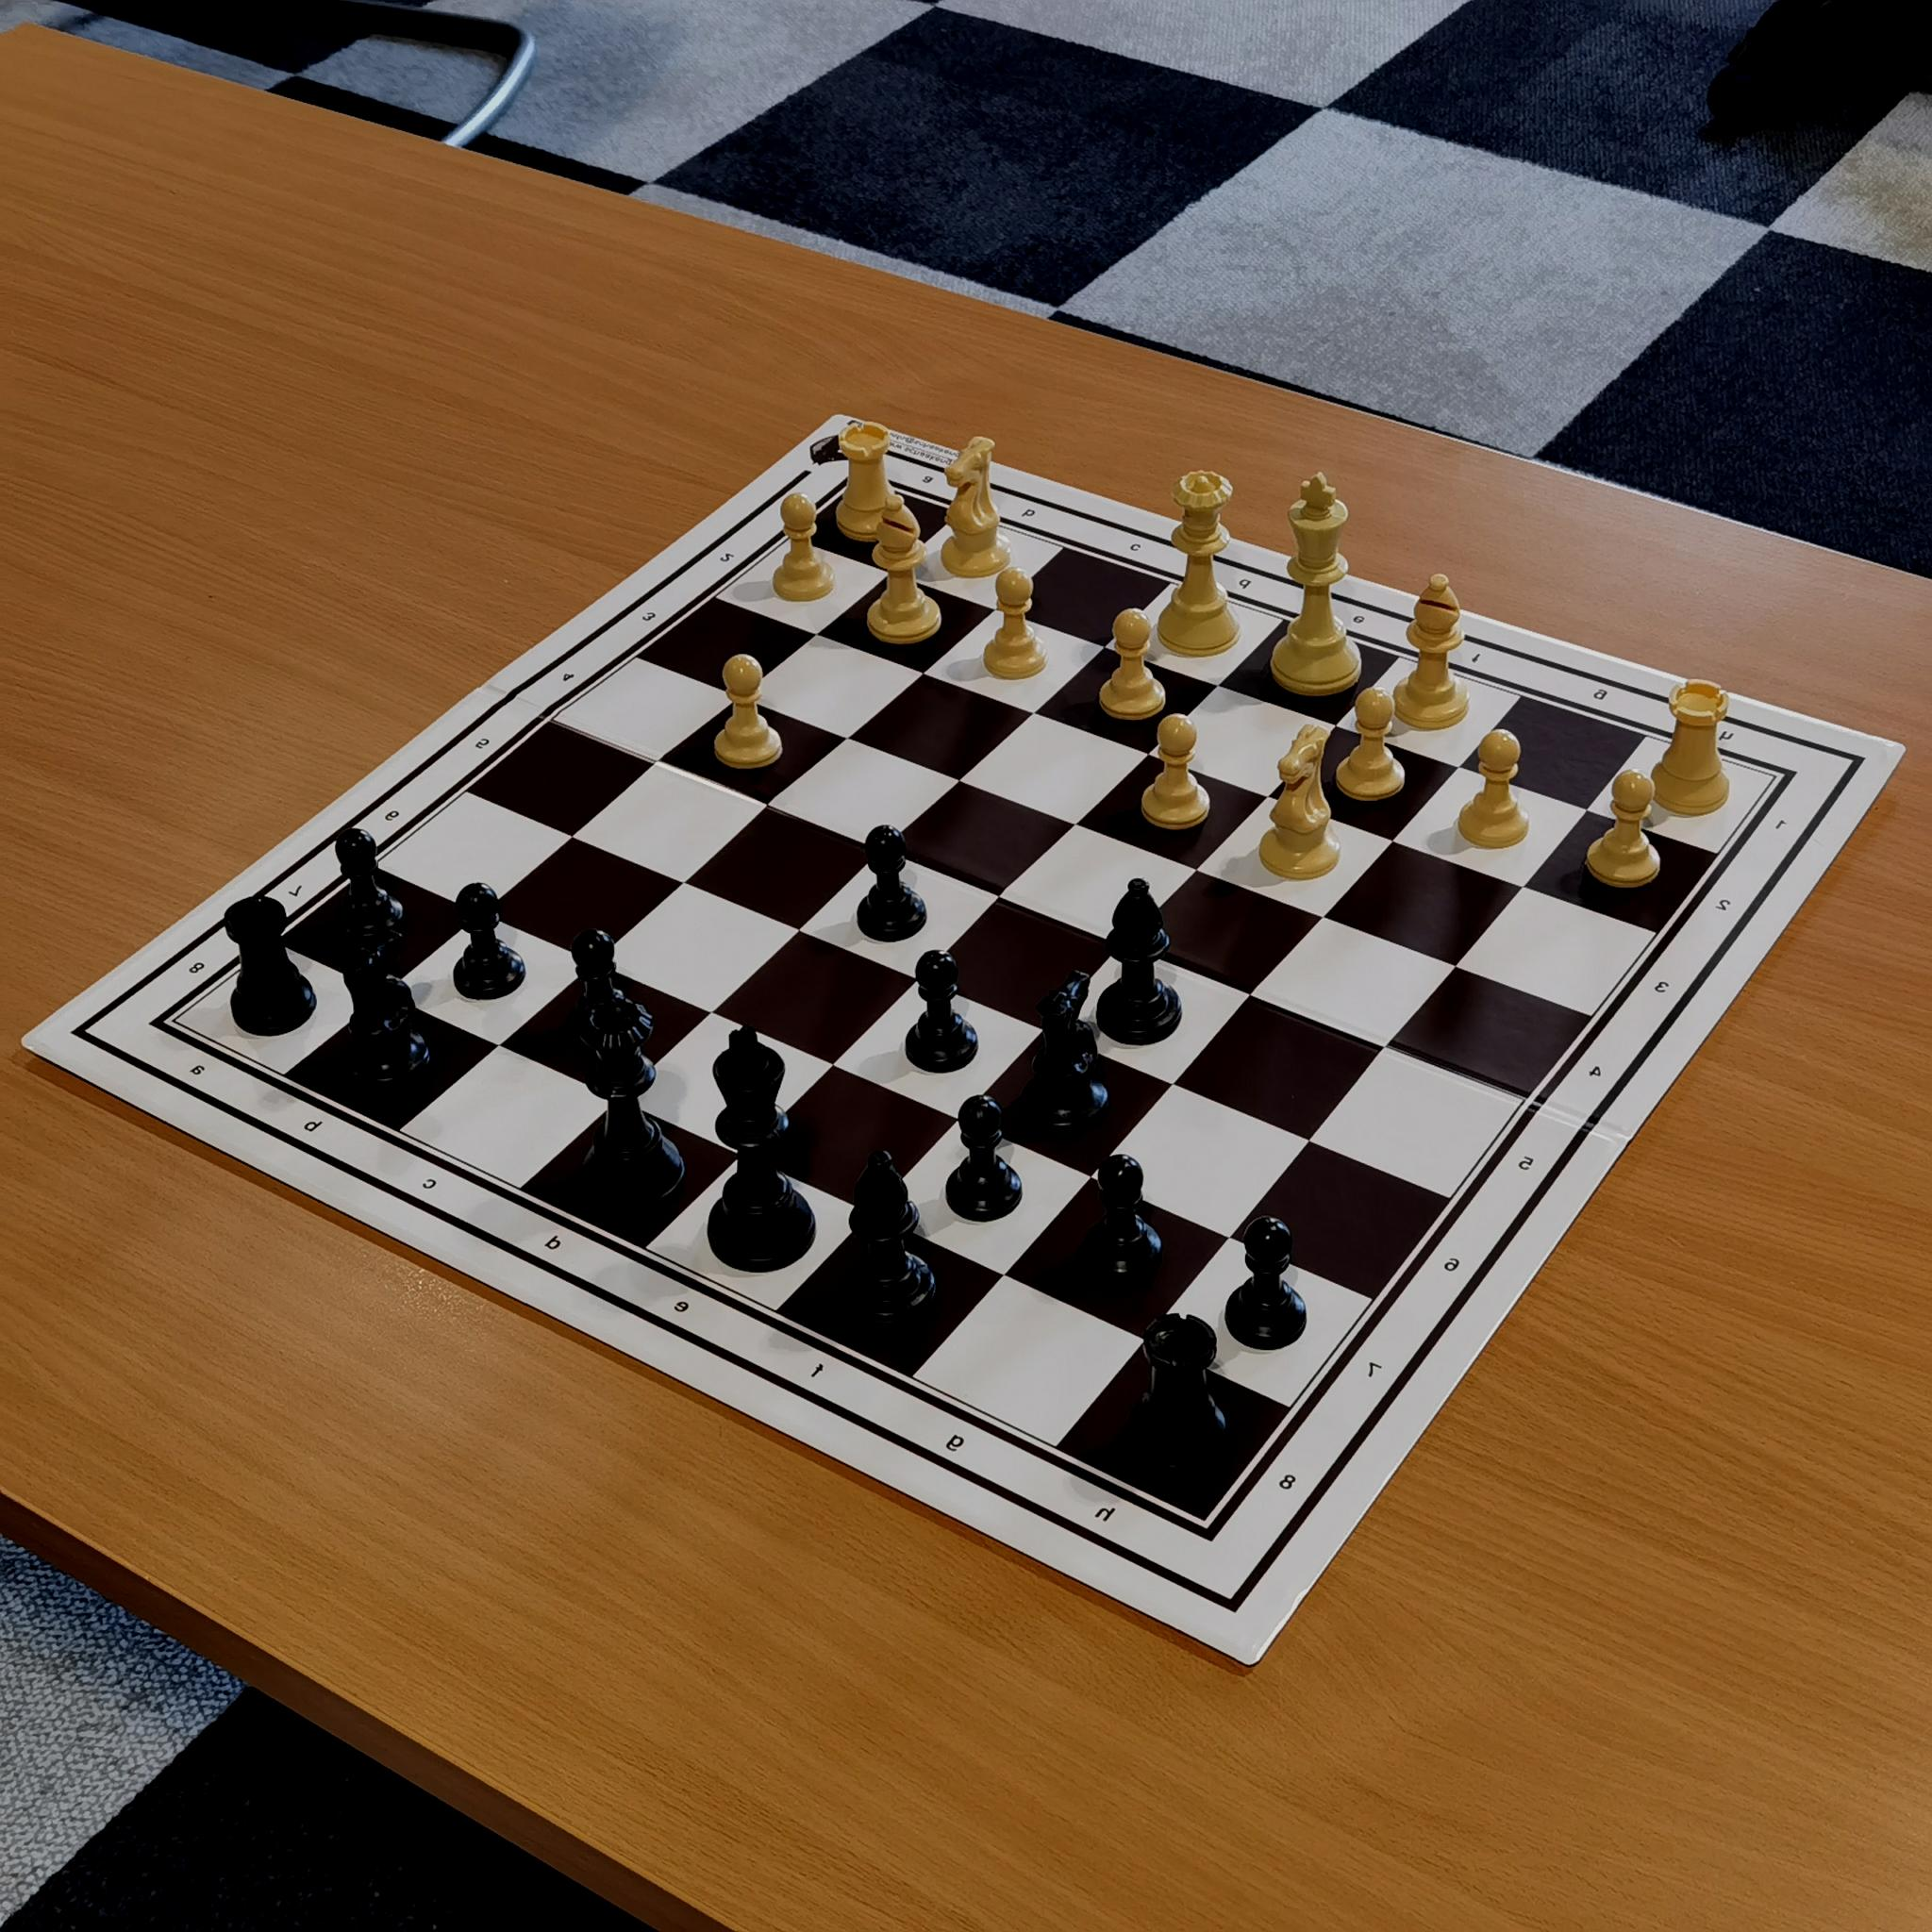corners: (1174, 1505, 1233, 1560), (138, 1008, 204, 1052), (835, 449, 890, 499), (1753, 758, 1813, 802)
eight: (1261, 1461, 1312, 1511), (174, 946, 221, 991)
one: (1760, 802, 1804, 854), (785, 485, 824, 521)
